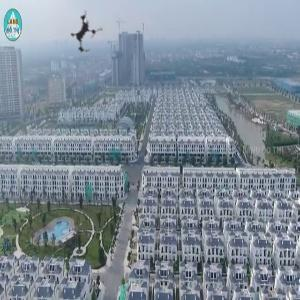drone: (54, 1, 120, 67)
